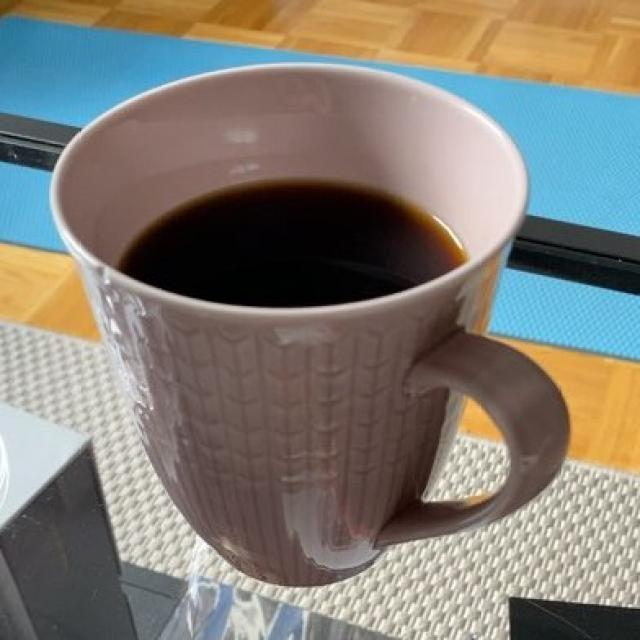coffee: (115, 179, 464, 309)
